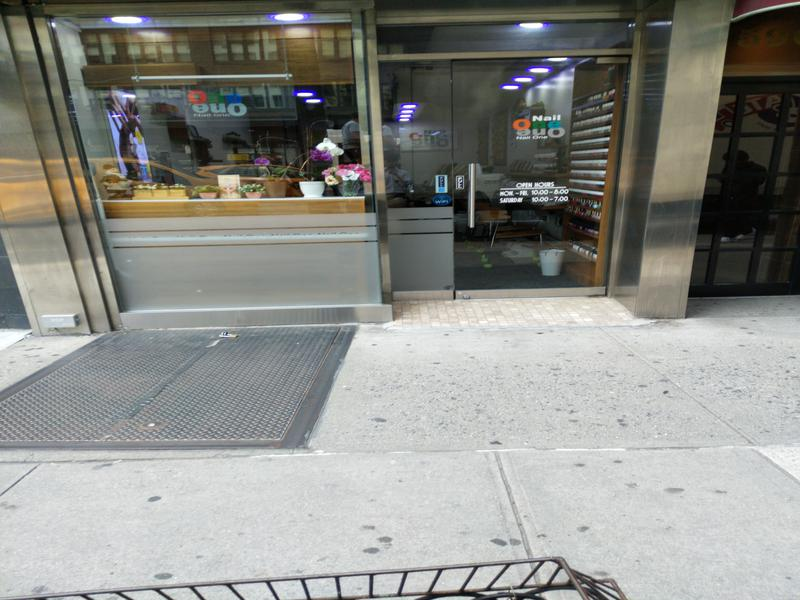door: (448, 54, 621, 302)
